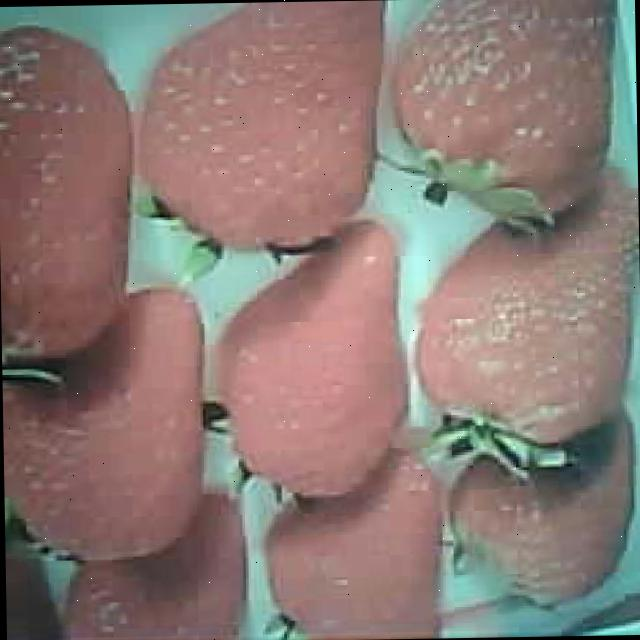strawberry: (143, 0, 386, 250), (411, 176, 640, 441), (0, 287, 215, 563), (214, 234, 412, 502), (385, 0, 619, 209)
